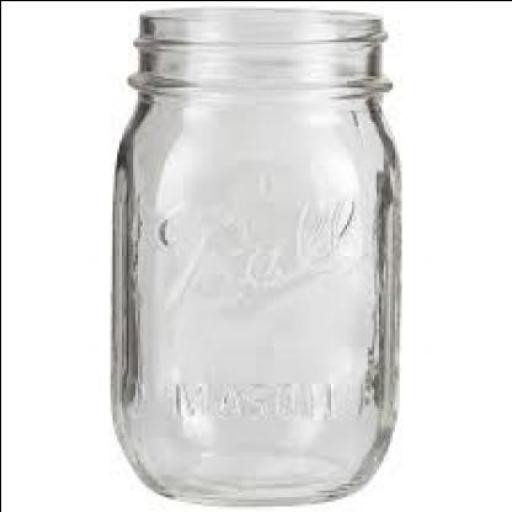glass: (107, 4, 398, 503)
